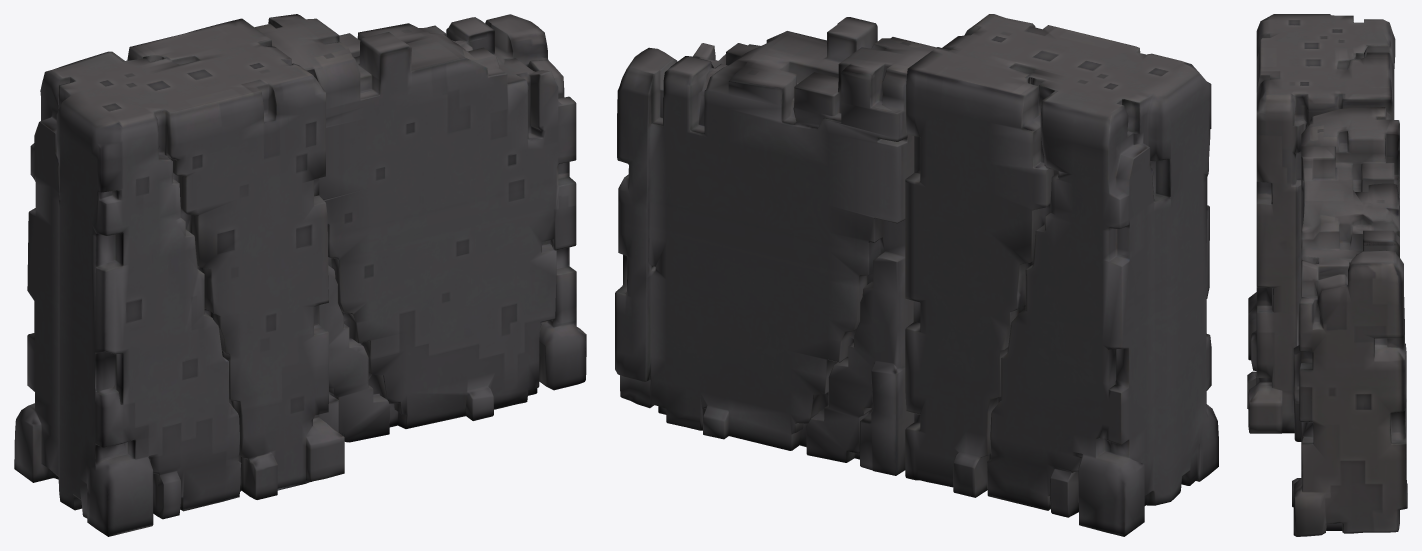
Rendered from slab_wide.glb.
3 views of the same model, side by side, from view 1: azimuth 30°, elevation 25°; view 2: azimuth 150°, elevation 25°; view 3: azimuth 270°, elevation 25° (orthographic). The views are drawn at different scales.
Visible parts, largest first — view 1: tripo_node_66273398-de69-42b2-b0d1-4c695b24016f; view 2: tripo_node_66273398-de69-42b2-b0d1-4c695b24016f; view 3: tripo_node_66273398-de69-42b2-b0d1-4c695b24016f.
Part boxes in pixels (x1=…): tripo_node_66273398-de69-42b2-b0d1-4c695b24016f: x1=14, y1=14, x2=586, y2=536; tripo_node_66273398-de69-42b2-b0d1-4c695b24016f: x1=615, y1=14, x2=1218, y2=536; tripo_node_66273398-de69-42b2-b0d1-4c695b24016f: x1=1247, y1=14, x2=1407, y2=536.
Bounding box in the file's own units: 1 × 0.7554 × 0.3307.
Materials: 1 (1 with a texture image).
